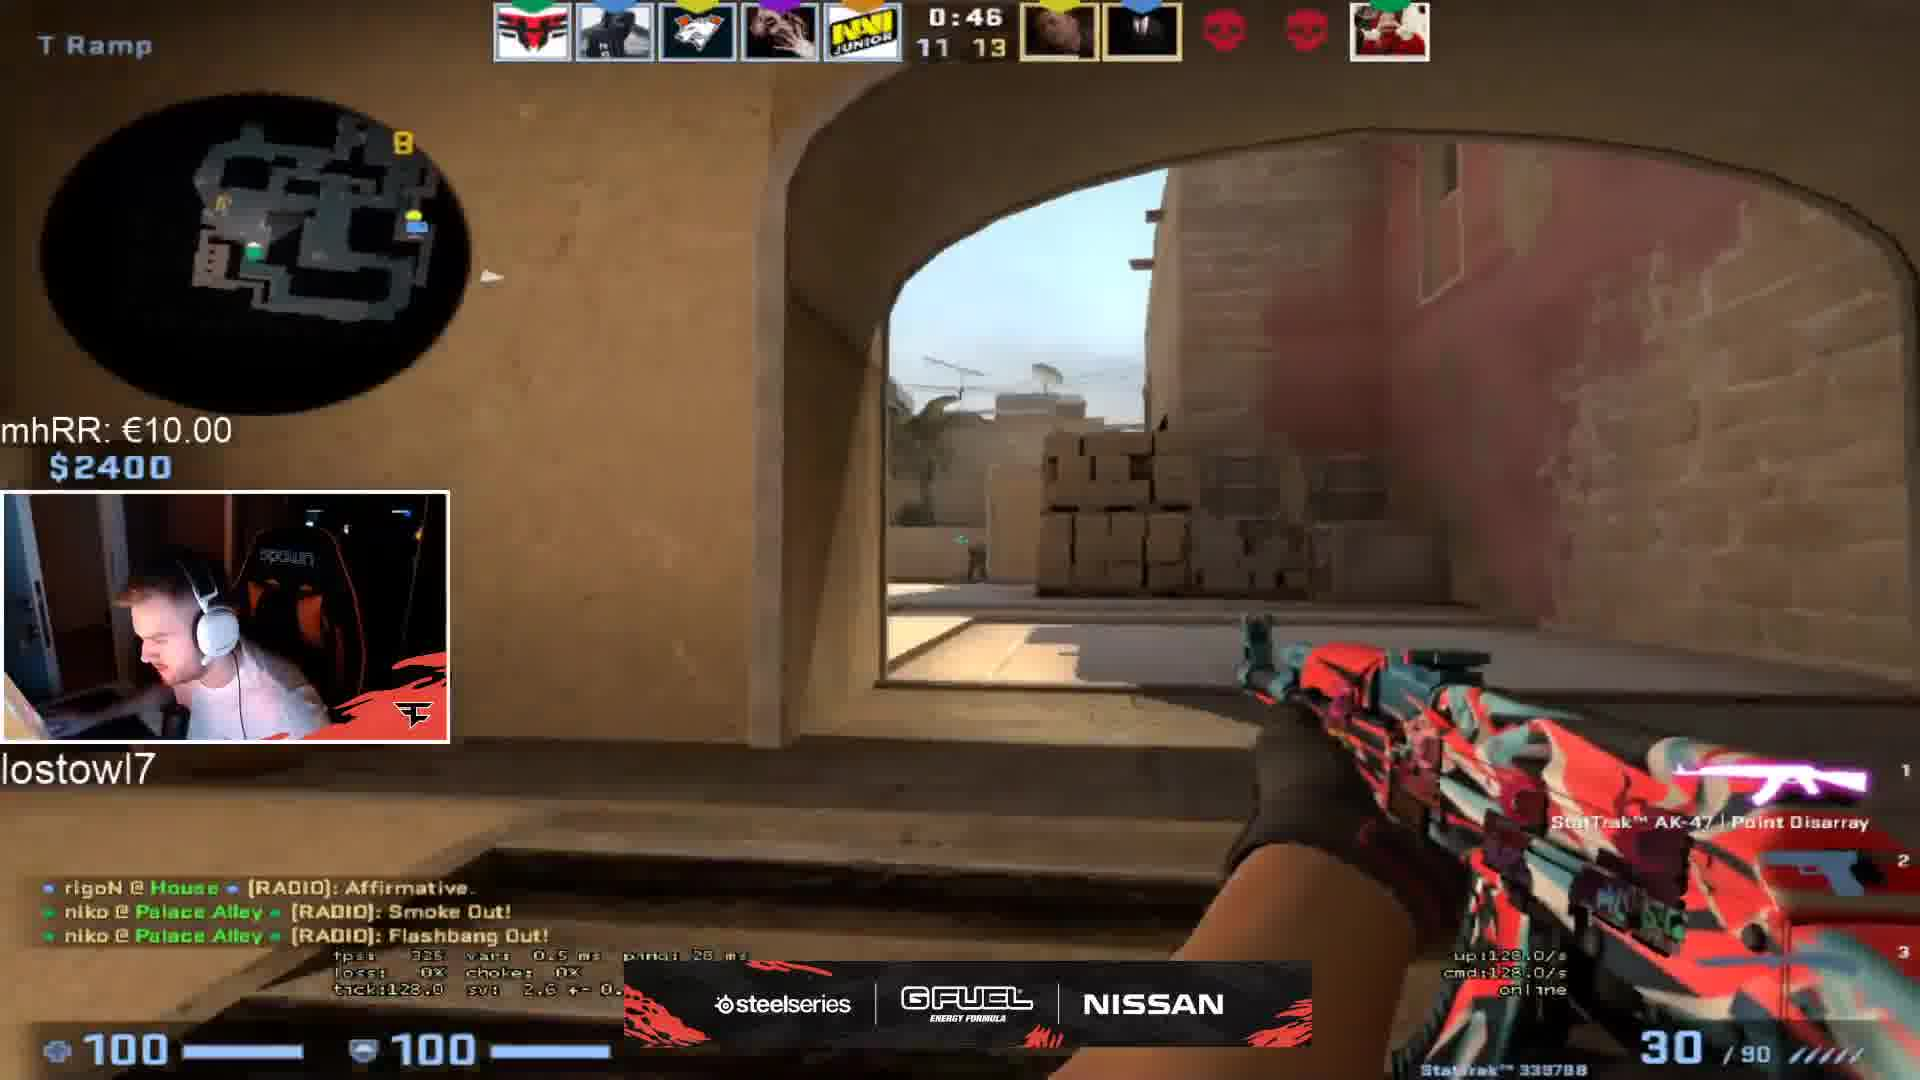enemy: (965, 541, 990, 585)
